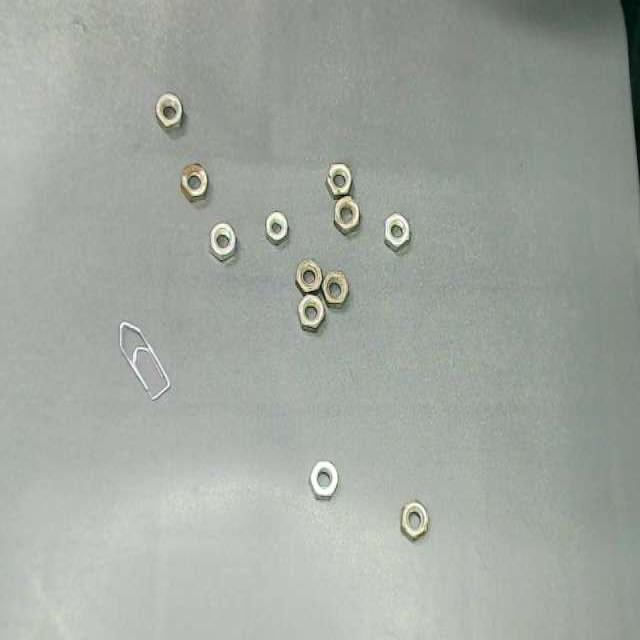Porca: (309, 460, 338, 499), (401, 502, 428, 541), (180, 164, 207, 202), (210, 223, 235, 261), (334, 196, 359, 234), (155, 94, 182, 129), (322, 271, 348, 307), (296, 259, 322, 295), (298, 295, 324, 331), (385, 214, 410, 251), (327, 163, 351, 198), (265, 211, 287, 245)
